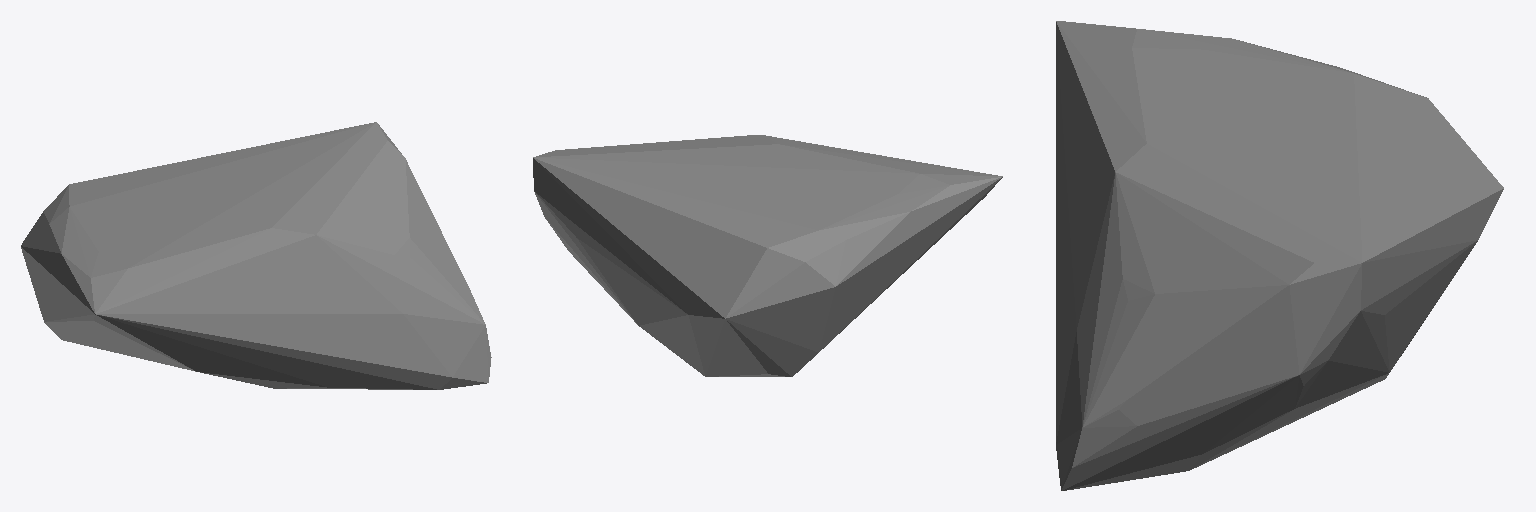
The robot description file, URDF, robot "65_372":
<?xml version="1.0"?>
<robot name="65_372">
  <link name="link">
    <contact>
      <lateral_friction value="0.6"/>
    </contact>
    <inertial>
      <origin xyz="0.0018371880745905078 0.003152853412003872 0.002451104212907515" rpy="0 0 0"/>
      <mass value = "0.2956594627029372"/>
      <inertia ixx="8.577110876930299e-05" ixy="-3.6035916928571085e-05" ixz="2.6320546497790377e-06" iyy="0.00021416219567891245" iyz="8.44981534381628e-06" izz="0.00024280499915855093" />
    </inertial>
    <visual name="visual">
      <geometry>
        <mesh filename="65_372.obj"/>
      </geometry>
      <material name="material">
        <color rgba="0.5675559067112658 0.5675559067112658 0.5675559067112658 1.0"/>
      </material>
    </visual>
    <collision name="collision">
      <geometry>
        <mesh filename="65_372.obj"/>
      </geometry>
    </collision>
  </link>
</robot>

--- Render facts (derived) ---
The picture shows the robot from 3 angles, left to right: view 1: azimuth 30°, elevation 25°; view 2: azimuth 150°, elevation 25°; view 3: azimuth 270°, elevation 25°; orthographic projection.
Model 65_372 with 1 links and 0 joints (none), rooted at link, posed every joint at zero.
Visible links, largest first — view 1: link; view 2: link; view 3: link.
Link boxes in pixels (bbox=[...]): link: bbox=[21, 122, 491, 389]; link: bbox=[533, 135, 1002, 376]; link: bbox=[1056, 21, 1503, 490].
Bounding box of the posed robot: 0.1115 × 0.0805 × 0.0481 m (x, y, z).
Meshes: 1 distinct files referenced, 1 mesh visuals loaded (1 OBJ).
